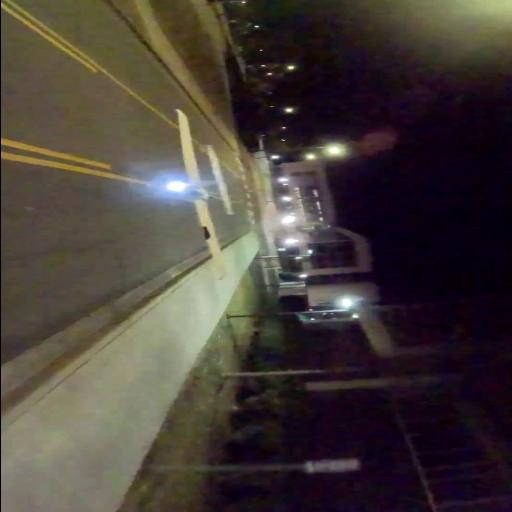uav: (148, 106, 234, 282)
